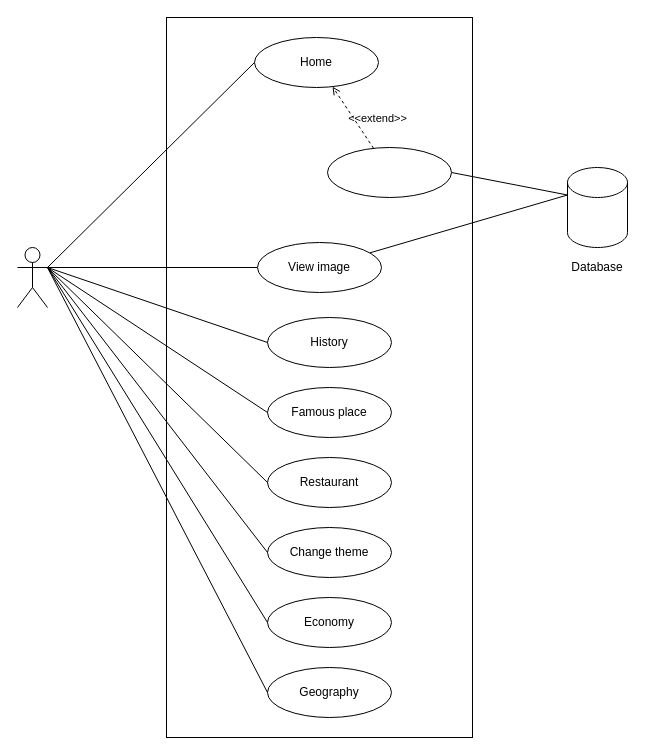
The diagram is 645 pixels wide and 755 high, and some of its shapes have lost their labels. Each missing label, with the centre of its shape:
Actor: point (32, 277)
Upload images: point (389, 172)
